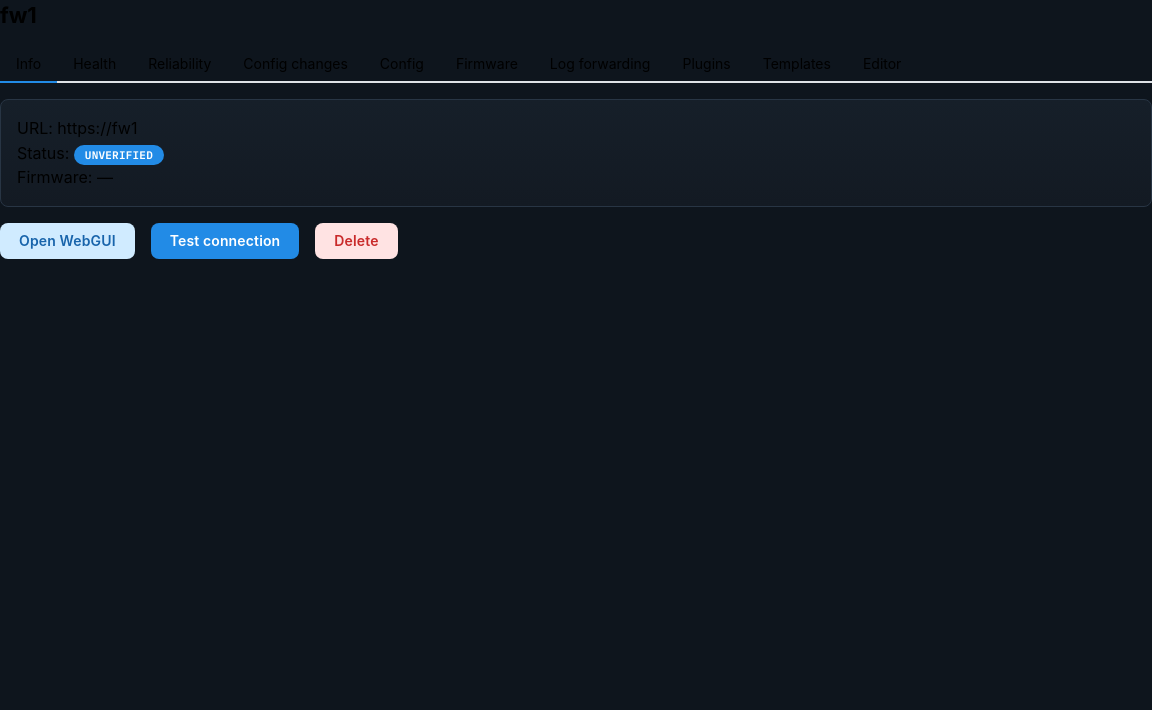
Test: DeviceDetailPage › shows the health section with charts and a range selector
Expected: the heading "fw1" is shown, [0,2,36,28]
Click the tab "Health" at (95, 65), box [57,47,132,83]
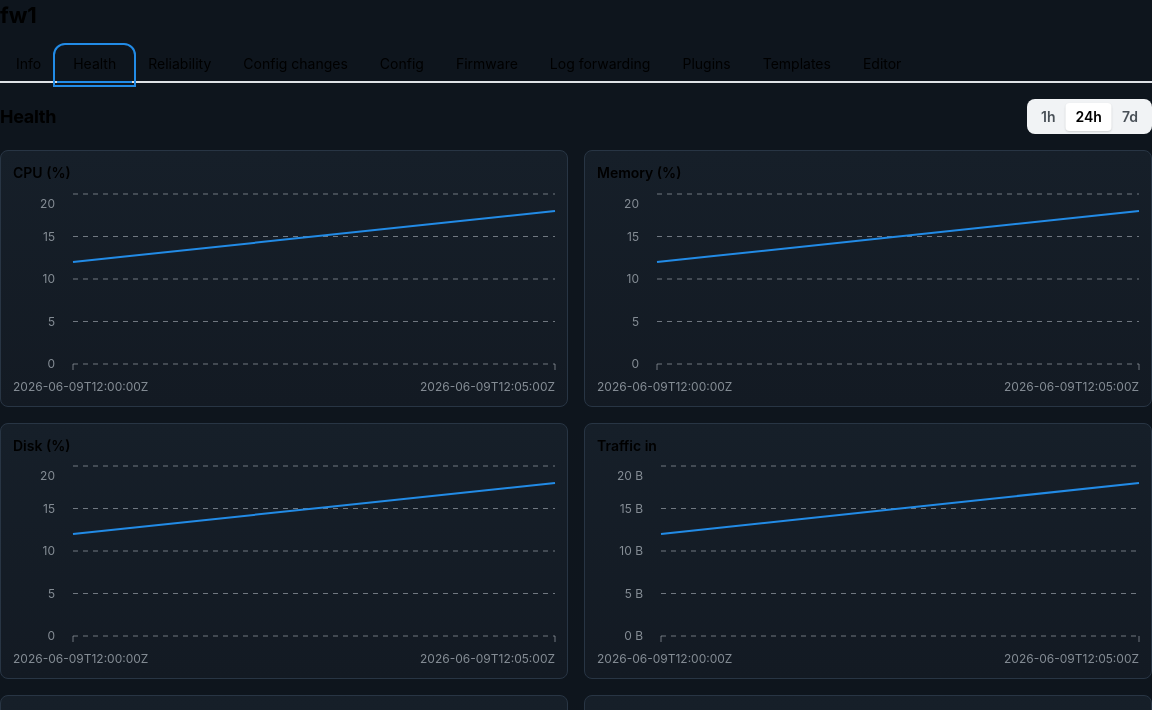
Expected: the text "CPU (%)" is shown, [13,164,71,182]
Expected: the text "Memory (%)" is shown, [597,164,681,182]
Expected: the text "24h" is shown, [1076,108,1102,125]
